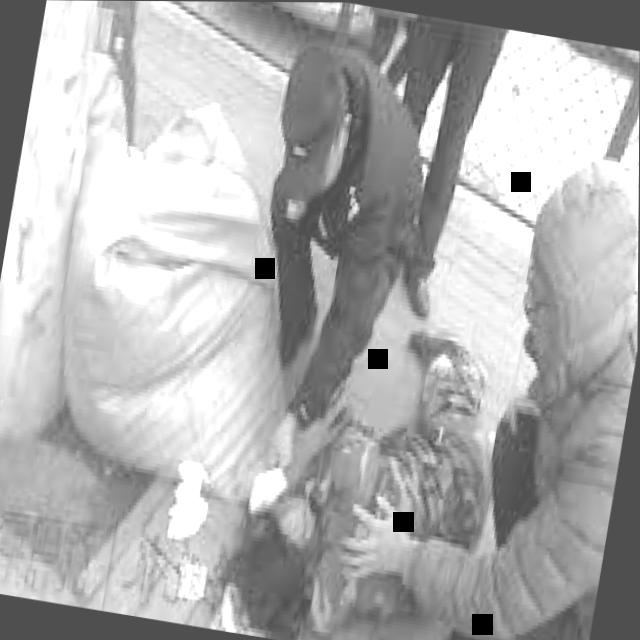Fall-Detected: (205, 269, 529, 640)
